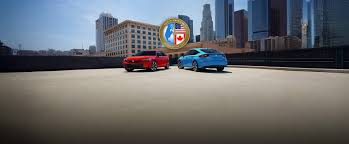car: (180, 46, 229, 74), (124, 48, 174, 74)
